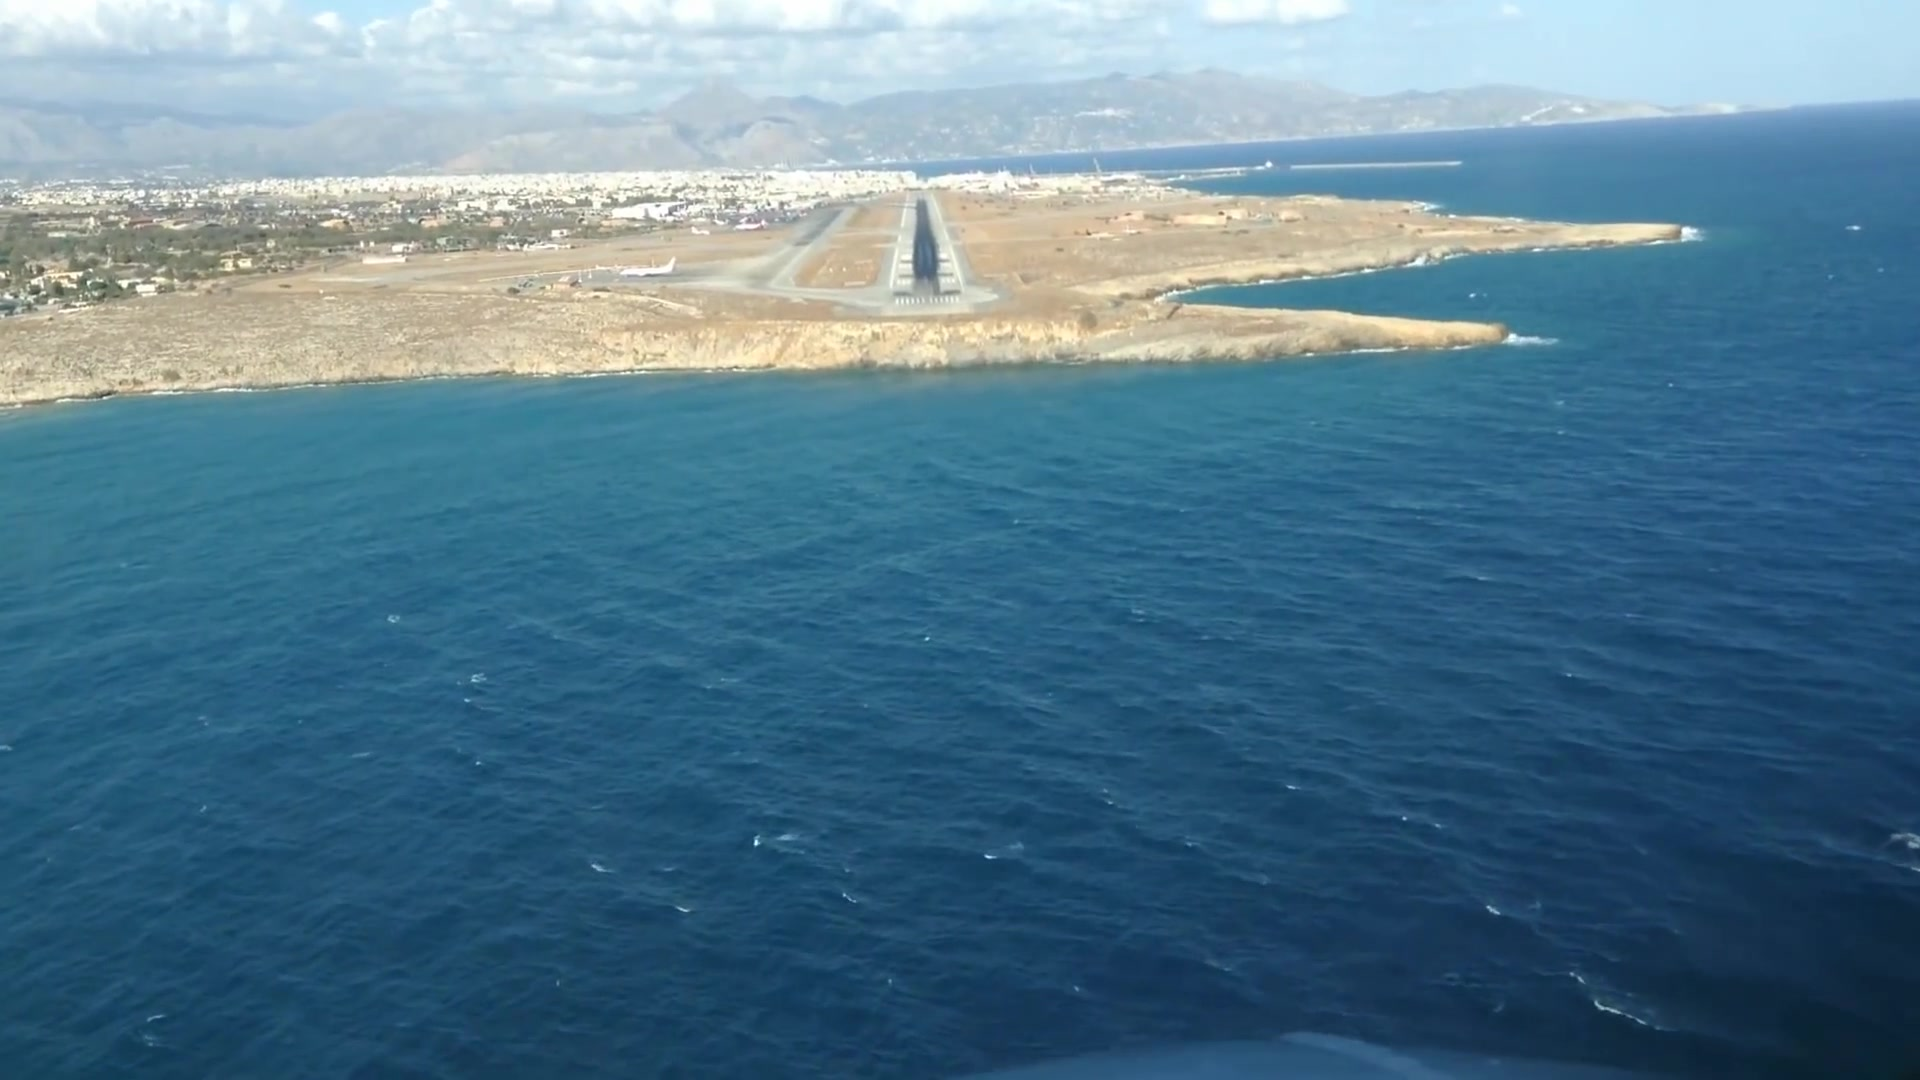entrance: (894, 295, 960, 306)
runway: (886, 189, 963, 315)
